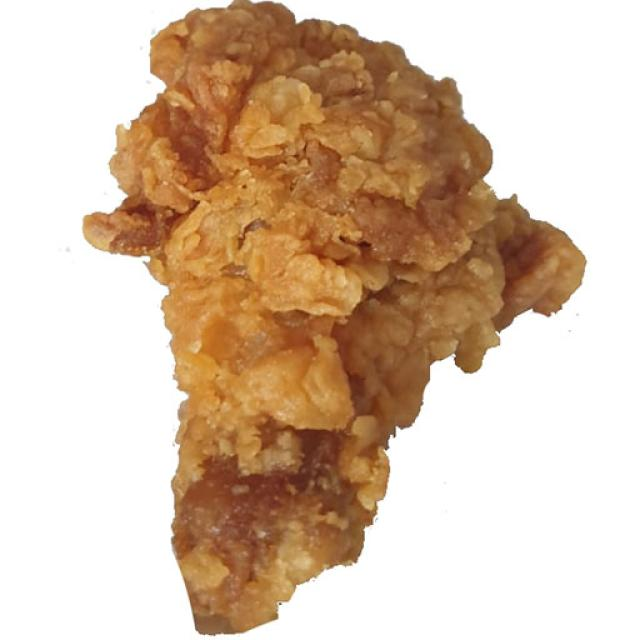Frango: (72, 0, 596, 640)
